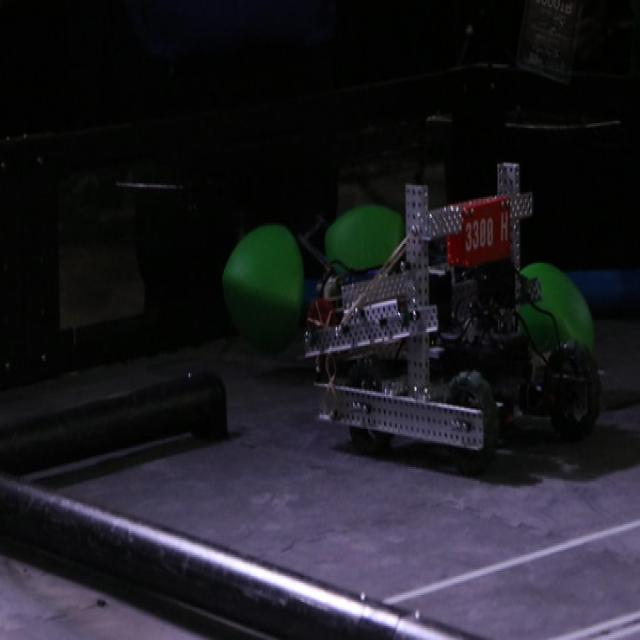License-Plates: (448, 202, 513, 268)
